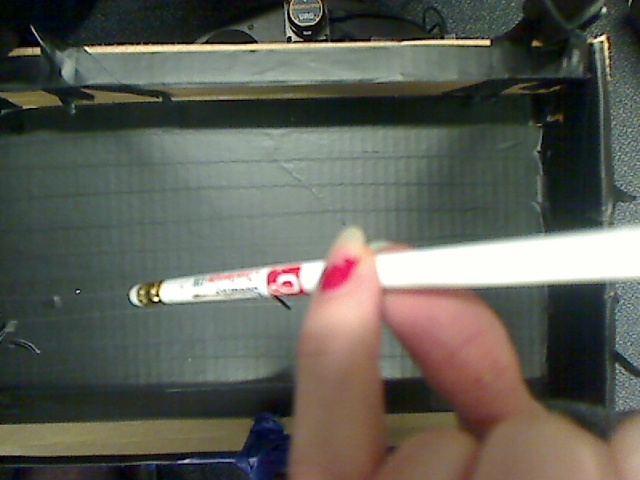pencil: (109, 249, 640, 307)
